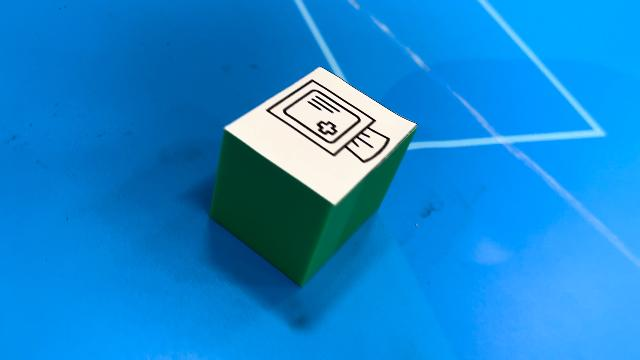napkin: (206, 66, 418, 288)
